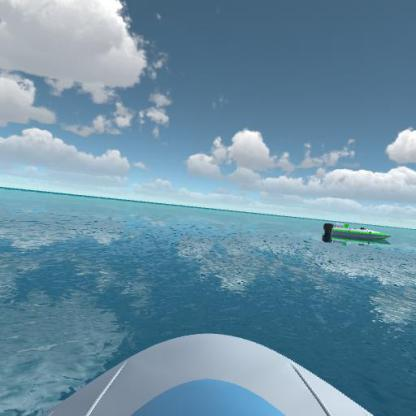usv0: (319, 217, 395, 249)
